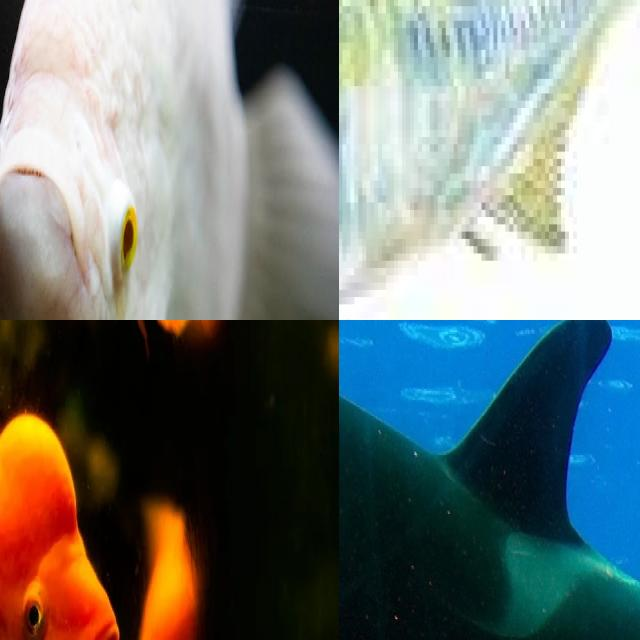fish: (0, 0, 339, 320), (339, 0, 640, 320), (339, 320, 640, 640), (0, 320, 121, 640)
